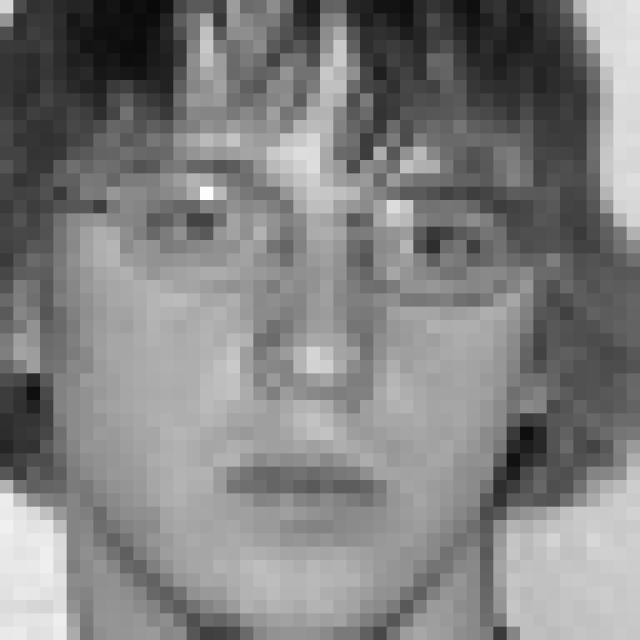neutral: (107, 153, 527, 537)
